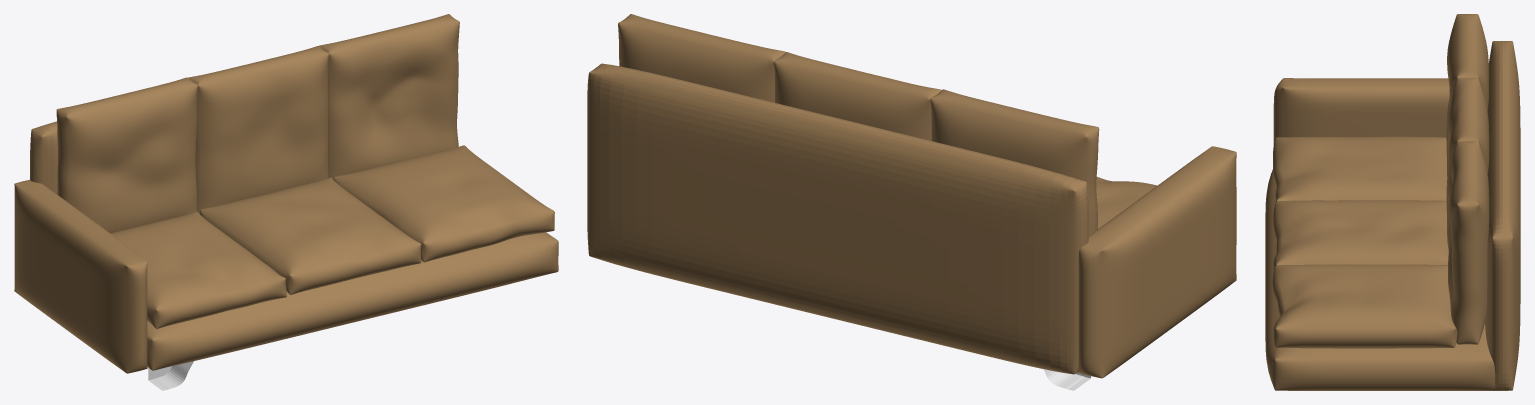
Rendered from SOFA_BROWN.glb.
3 renders of one model, left to right at view 1: azimuth 30°, elevation 25°; view 2: azimuth 150°, elevation 25°; view 3: azimuth 270°, elevation 25°, orthographic. The views are drawn at different scales.
Visible parts, largest first — view 1: Cube, Cube.005, Cube.007, Cube.008, Cube.003, Cube.006, Cube.004, Cube.002, Cube.001, Cube.009; view 2: Cube.001, Cube.003, Cube.007, Cube.008, Cube.005, Cube.002, Cube.010; view 3: Cube.004, Cube, Cube.006, Cube.002, Cube.001, Cube.003, Cube.008, Cube.005, Cube.007.
Part boxes in pixels (x1=…): Cube: x1=147, y1=232, x2=558, y2=370; Cube.005: x1=188, y1=46, x2=328, y2=213; Cube.007: x1=56, y1=77, x2=197, y2=233; Cube.008: x1=319, y1=14, x2=459, y2=179; Cube.003: x1=14, y1=179, x2=147, y2=373; Cube.006: x1=200, y1=177, x2=421, y2=294; Cube.004: x1=333, y1=145, x2=554, y2=262; Cube.002: x1=110, y1=212, x2=286, y2=328; Cube.001: x1=30, y1=121, x2=57, y2=194; Cube.009: x1=148, y1=361, x2=193, y2=390; Cube.001: x1=587, y1=63, x2=1088, y2=374; Cube.003: x1=1078, y1=146, x2=1236, y2=378; Cube.007: x1=930, y1=89, x2=1099, y2=235; Cube.008: x1=618, y1=14, x2=785, y2=102; Cube.005: x1=774, y1=52, x2=941, y2=140; Cube.002: x1=1096, y1=177, x2=1157, y2=228; Cube.010: x1=1044, y1=369, x2=1090, y2=390; Cube.004: x1=1272, y1=264, x2=1457, y2=348; Cube: x1=1265, y1=169, x2=1501, y2=390; Cube.006: x1=1273, y1=200, x2=1448, y2=271; Cube.002: x1=1273, y1=136, x2=1447, y2=202; Cube.001: x1=1485, y1=41, x2=1520, y2=390; Cube.003: x1=1273, y1=78, x2=1449, y2=145; Cube.008: x1=1448, y1=141, x2=1489, y2=344; Cube.005: x1=1446, y1=78, x2=1489, y2=250; Cube.007: x1=1446, y1=14, x2=1488, y2=176.
Size of the model in its own units: 6.41 by 3.04 by 3.24.
